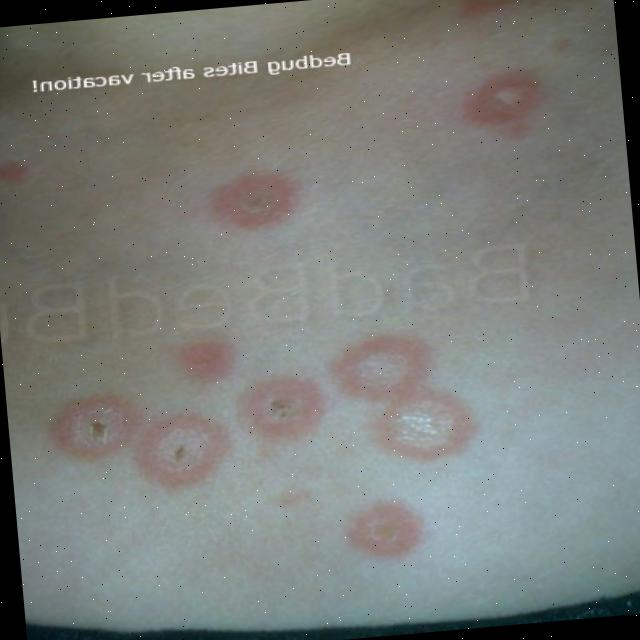kan emici bocekler: (355, 372, 498, 472), (122, 395, 244, 501), (193, 153, 324, 244), (325, 321, 448, 415), (452, 56, 570, 149), (41, 378, 159, 471), (225, 363, 346, 453), (336, 487, 443, 569), (155, 326, 260, 399)
